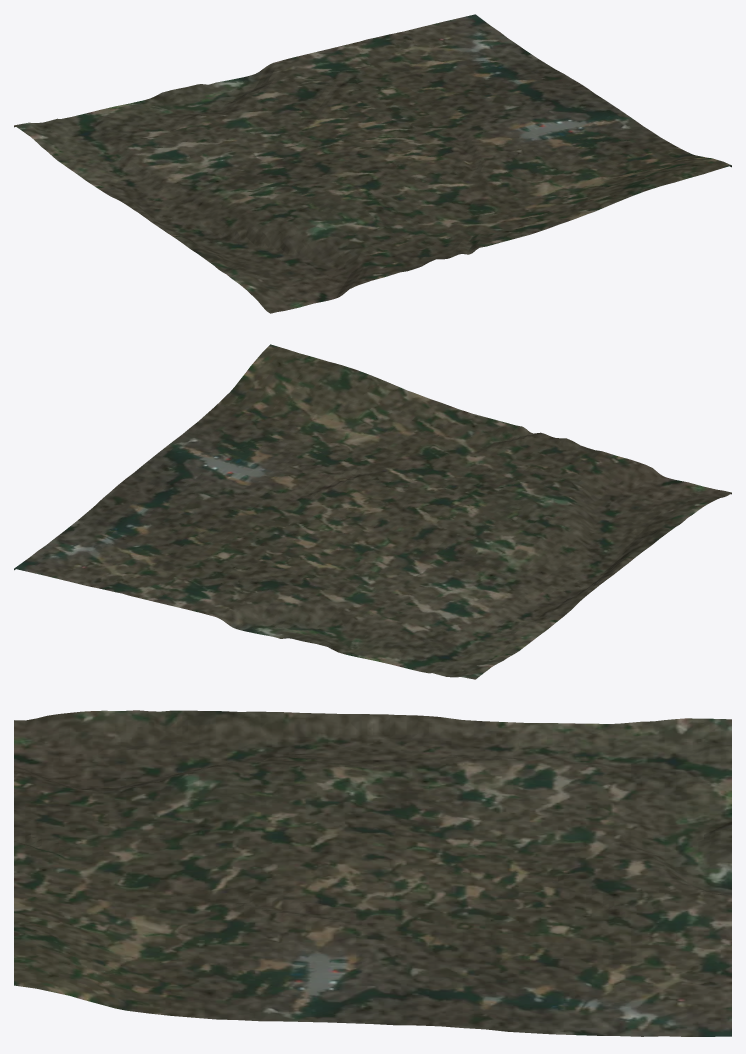
The picture shows the model from 3 angles, top to bottom: view 1: azimuth 30°, elevation 25°; view 2: azimuth 150°, elevation 25°; view 3: azimuth 270°, elevation 25°; orthographic projection. The views are drawn at different scales.
Bounding box in the file's own units: 250 × 23.22 × 241.
1 material, 1 textured.
